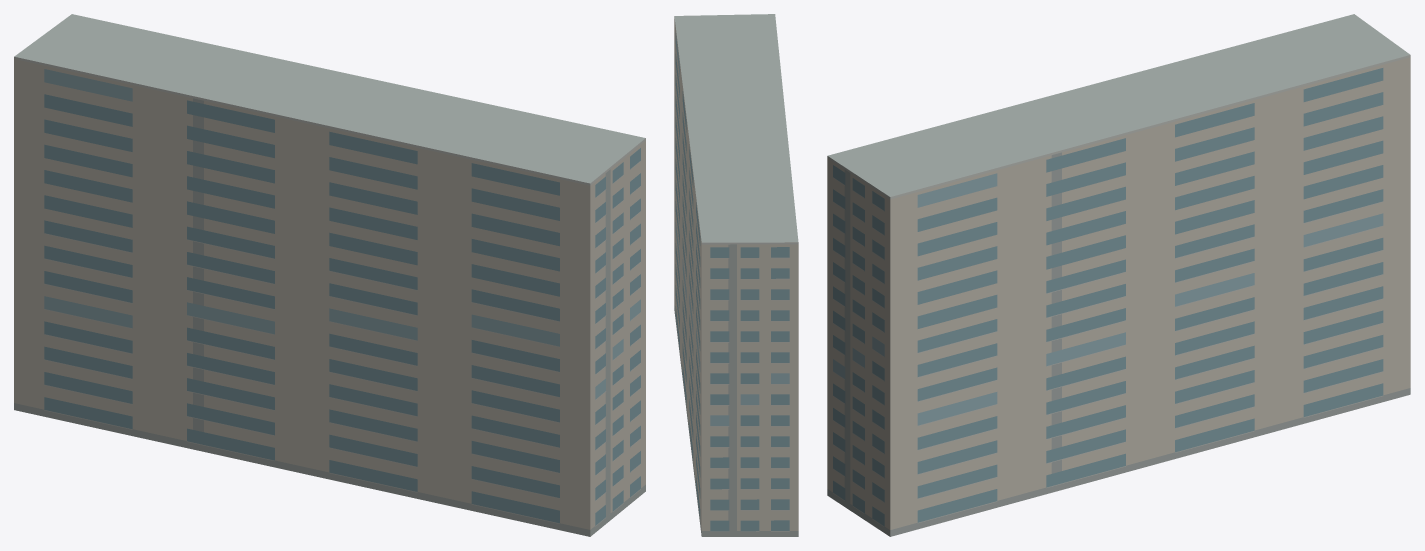
File: residential-b73bd40e-9c6f-455c-aef2-0287888501bf.glb
3 views of the same model, side by side, from view 1: azimuth 30°, elevation 25°; view 2: azimuth 150°, elevation 25°; view 3: azimuth 270°, elevation 25° (orthographic). The views are drawn at different scales.
Parts seen in each view (by area): view 1: residential-b73bd40e-9c6f-455c-aef2-0287888501bf.tmp; view 2: residential-b73bd40e-9c6f-455c-aef2-0287888501bf.tmp; view 3: residential-b73bd40e-9c6f-455c-aef2-0287888501bf.tmp.
Boxes of the visible parts, left/top/right/bottom form: residential-b73bd40e-9c6f-455c-aef2-0287888501bf.tmp: left=14, top=14, right=645, bottom=536; residential-b73bd40e-9c6f-455c-aef2-0287888501bf.tmp: left=674, top=14, right=798, bottom=536; residential-b73bd40e-9c6f-455c-aef2-0287888501bf.tmp: left=827, top=14, right=1410, bottom=536.
Bounding box in the file's own units: 43.06 × 37.25 × 57.95.
